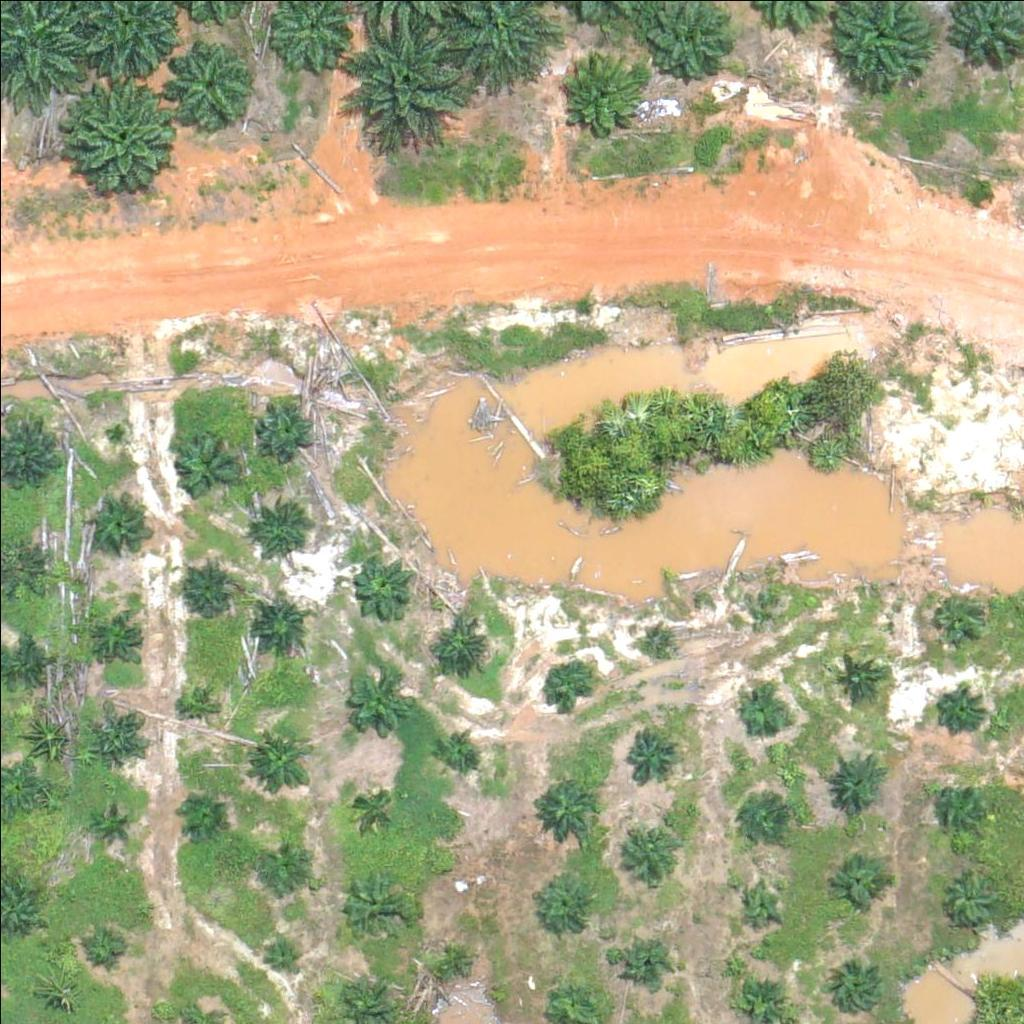Kelapa_Sawit: (340, 22, 465, 148), (69, 81, 182, 195), (164, 34, 251, 122), (560, 48, 647, 136), (335, 876, 410, 952), (174, 427, 249, 503), (87, 710, 150, 773), (350, 669, 413, 732), (825, 746, 888, 809), (253, 492, 316, 555), (354, 560, 417, 623), (86, 491, 149, 554), (254, 395, 317, 458), (252, 728, 314, 791), (535, 780, 597, 843), (617, 817, 679, 880), (538, 870, 600, 933), (432, 615, 494, 678), (247, 591, 309, 653), (180, 563, 242, 625), (740, 691, 790, 742), (736, 790, 786, 841), (838, 853, 888, 904), (944, 868, 994, 919), (933, 785, 983, 836), (933, 687, 983, 738), (833, 648, 883, 699), (625, 726, 675, 776), (544, 659, 594, 709), (618, 942, 668, 992), (265, 835, 315, 885), (833, 964, 883, 1014), (95, 613, 145, 663), (179, 788, 229, 838), (348, 779, 398, 829), (433, 722, 483, 772), (425, 939, 475, 989), (931, 587, 981, 637), (175, 679, 213, 717), (262, 936, 300, 974), (97, 804, 134, 842), (82, 929, 120, 966), (743, 887, 780, 925), (644, 631, 669, 656), (434, 854, 459, 879), (739, 597, 764, 622)
